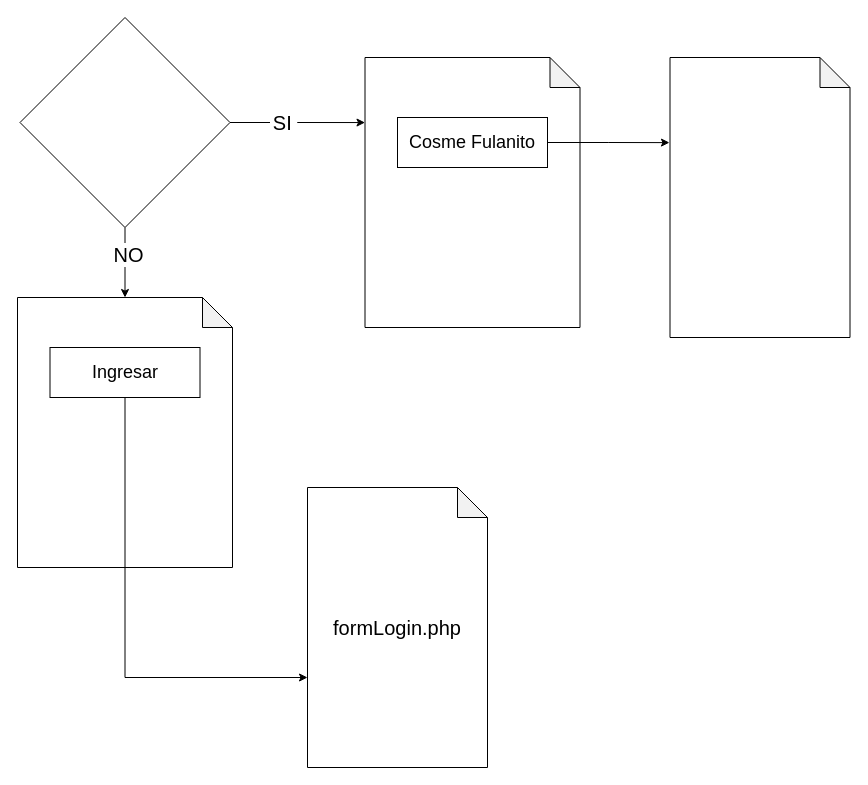
The diagram is 868 pixels wide and 785 high, and some of its shapes have lost their labels. Each missing label, with the centre of its shape:
"está logueado" goes at pixel 124 122.
"logout.php" goes at pixel 759 197.
